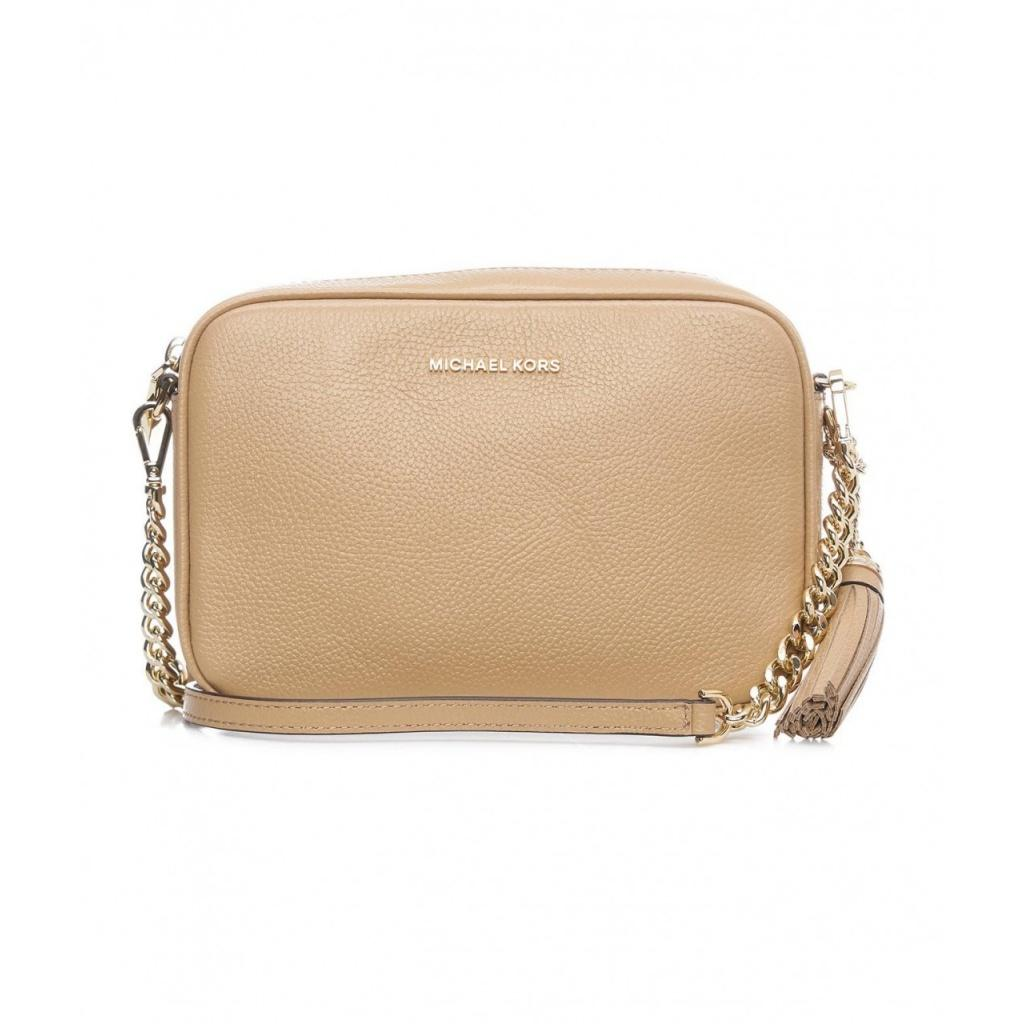MICHAEL-KORS: (430, 358, 559, 373)
